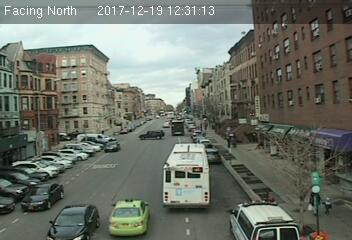bus: (161, 141, 211, 212)
car: (44, 203, 99, 240), (108, 197, 151, 236), (22, 180, 64, 207), (103, 140, 120, 153)
police: (229, 195, 302, 240)
ups: (171, 121, 185, 136)
